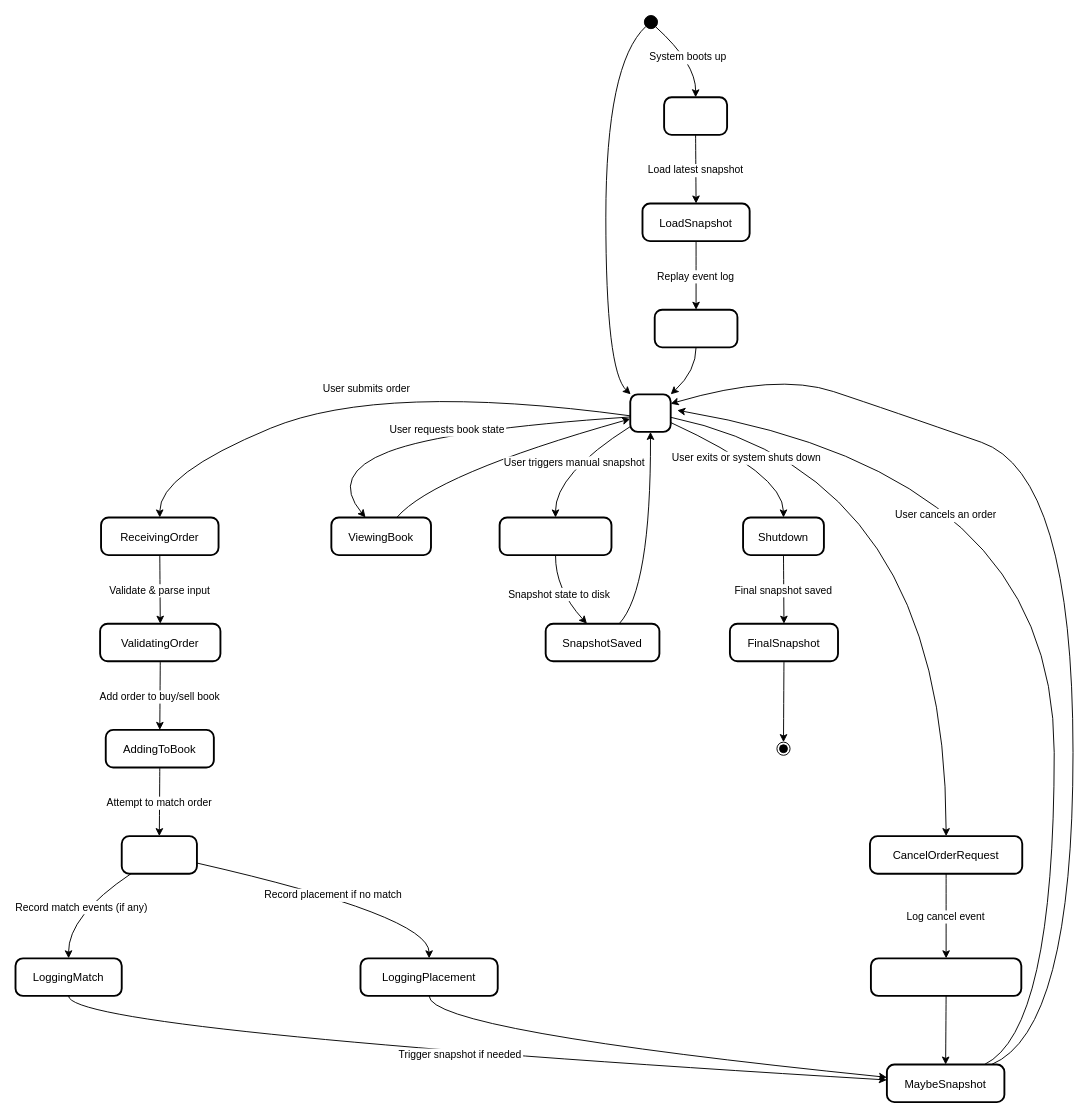
The diagram is 1089 pixels wide and 1118 high, and some of its shapes have lost their labels. Here are the shapes that lost their labels. From the top down, the centre of each, then its label:
(695,115): Restart
(695,328): ReplayLog
(650,412): Idle
(555,536): SaveCommand
(158,854): Matching
(946,976): LoggingCancellation
